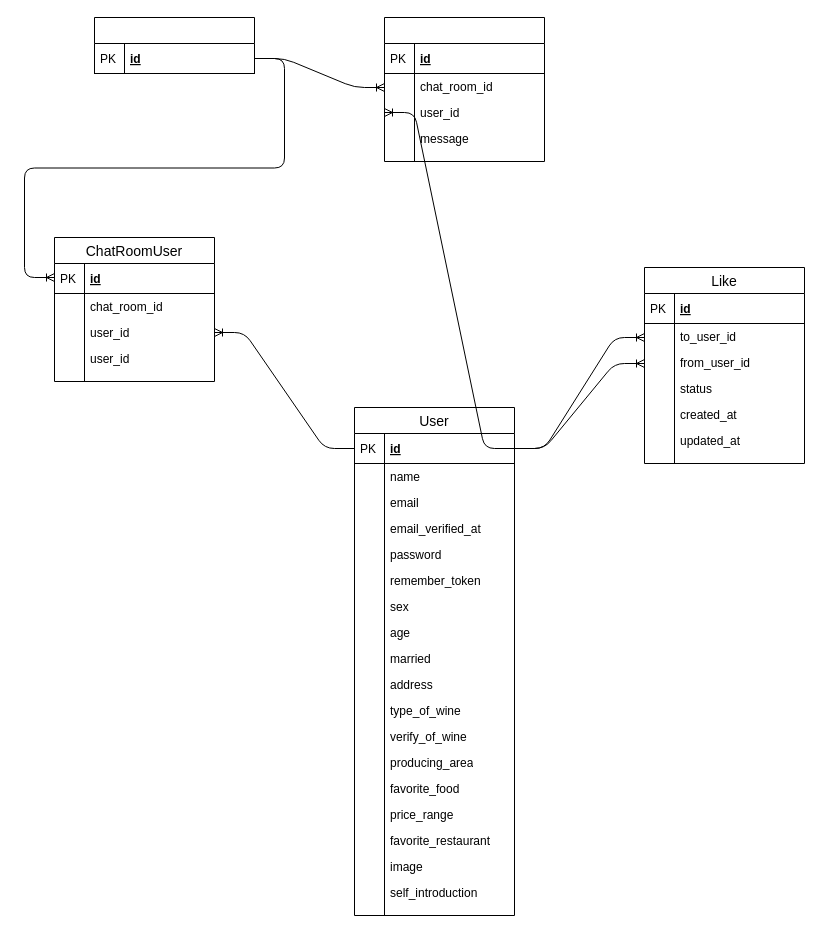
Image size: 822x933. Some labels were removed from this diagram. Each missing label, with the box of its shape:
ChatMessage: (384, 16, 544, 162)
ChatRoom: (94, 16, 254, 74)
